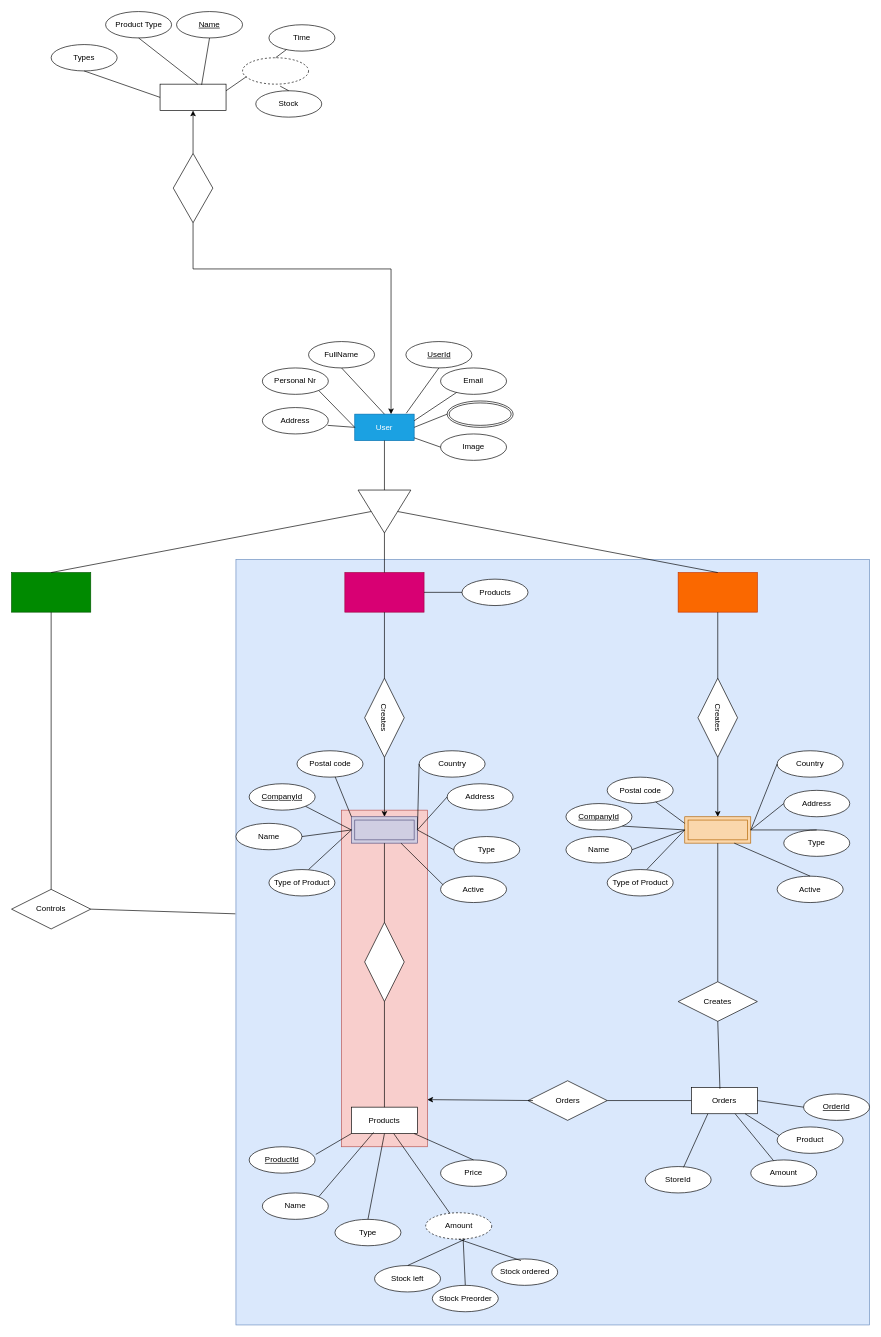
Some shapes in this 881 by 1337 pixel diagram are drawn without their labels. Here are the shapes that lost their labels. From the top down, the box of each, then its label:
(242, 57, 309, 84): Overall Sales
(159, 83, 226, 111): Reports
(173, 153, 213, 223): Has
(446, 400, 513, 427): Phone Nr
(357, 489, 411, 533): IS-A
(11, 572, 91, 612): Admin
(344, 572, 424, 612): Supplier
(677, 572, 757, 612): Custumer
(351, 816, 417, 843): Company
(684, 816, 751, 843): Store
(364, 922, 404, 1002): Adds
